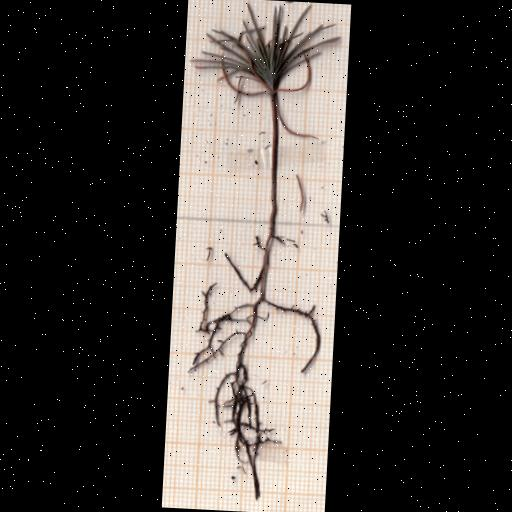flowerCedr: (191, 4, 340, 99)
rootCedr: (187, 236, 320, 499)
stemCedr: (266, 95, 278, 243)
